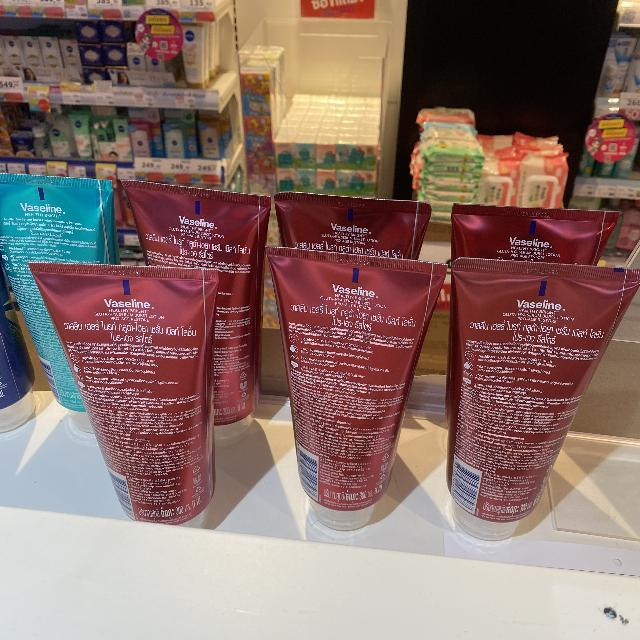Squeeze Tube: (21, 134, 640, 572)
